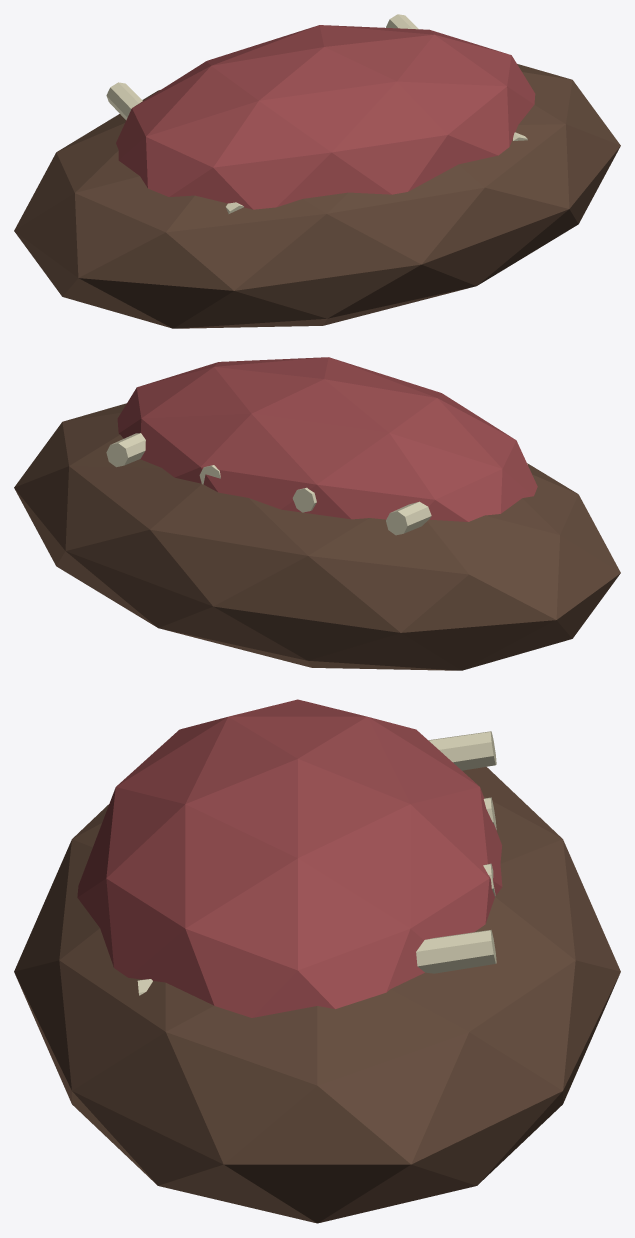
File: carcass.glb
3 views of the same model, one above another, from view 1: azimuth 30°, elevation 25°; view 2: azimuth 150°, elevation 25°; view 3: azimuth 270°, elevation 25° (orthographic). The views are drawn at different scales.
Parts seen in each view (by area): view 1: Geometry; view 2: Geometry; view 3: Geometry.
Part boxes in pixels (x1=…): Geometry: x1=14, y1=14, x2=620, y2=328; Geometry: x1=14, y1=357, x2=620, y2=670; Geometry: x1=14, y1=699, x2=620, y2=1223.
Size of the model in its own units: 0.932 by 0.41 by 0.62.
